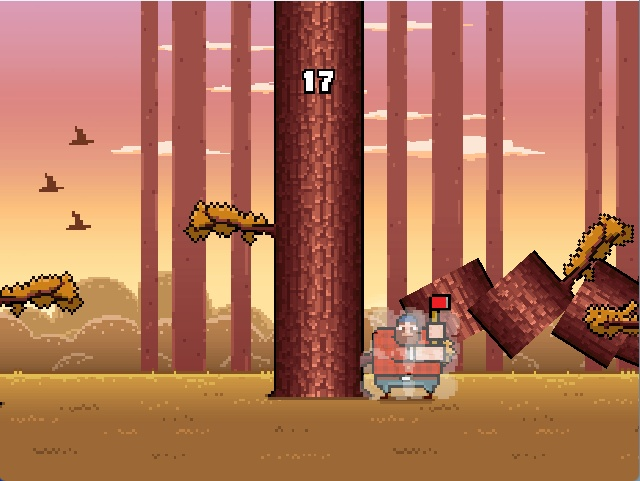left_obs: (180, 194, 282, 253)
timberman: (359, 290, 459, 415)
